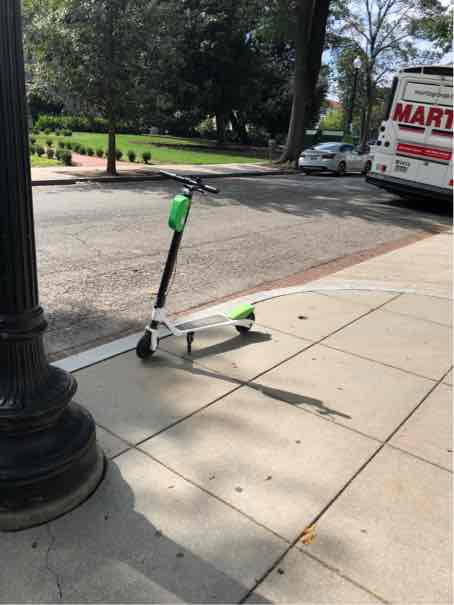scooter: (126, 160, 274, 359)
